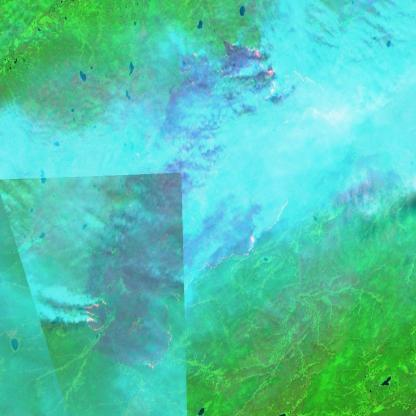fire: (220, 36, 344, 129), (82, 292, 112, 336)
